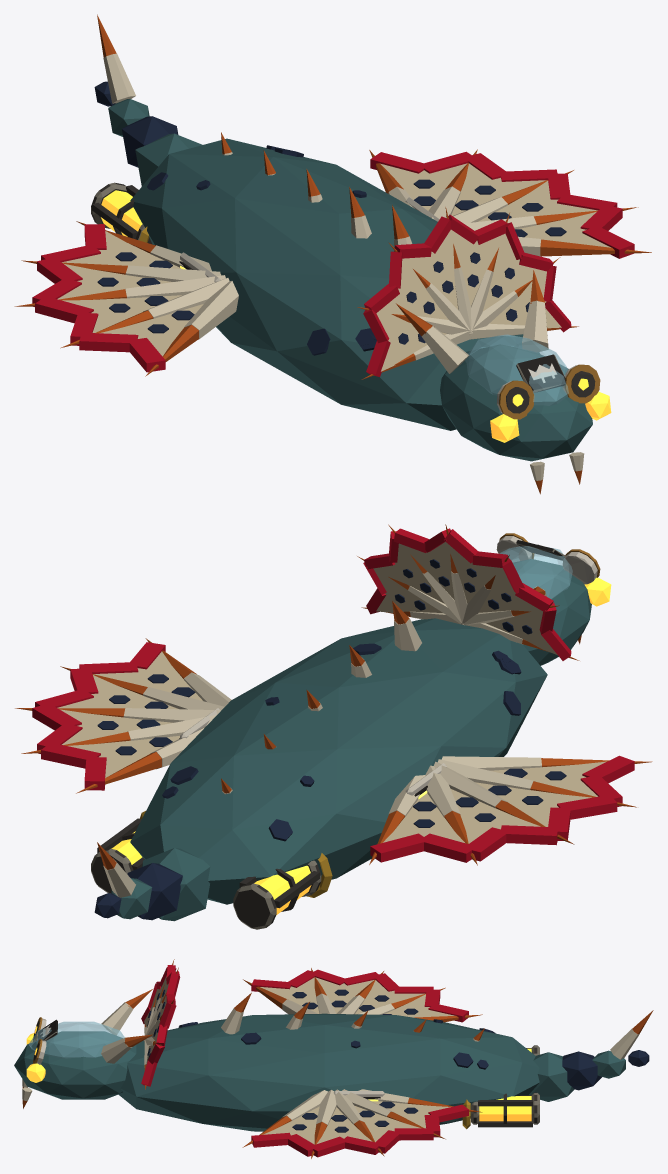
File: s_rept_skiff.glb
The picture shows the model from 3 angles, top to bottom: view 1: azimuth 30°, elevation 25°; view 2: azimuth 150°, elevation 25°; view 3: azimuth 270°, elevation 25°; orthographic projection. The views are drawn at different scales.
Parts seen in each view (by area): view 1: s_rept_skiff; view 2: s_rept_skiff; view 3: s_rept_skiff.
Boxes of the visible parts, <box> form: s_rept_skiff: <box>14,14,651,494</box>; s_rept_skiff: <box>15,524,652,929</box>; s_rept_skiff: <box>14,959,653,1158</box>.
Size of the model in its own units: 5.29 by 1.99 by 7.43.
